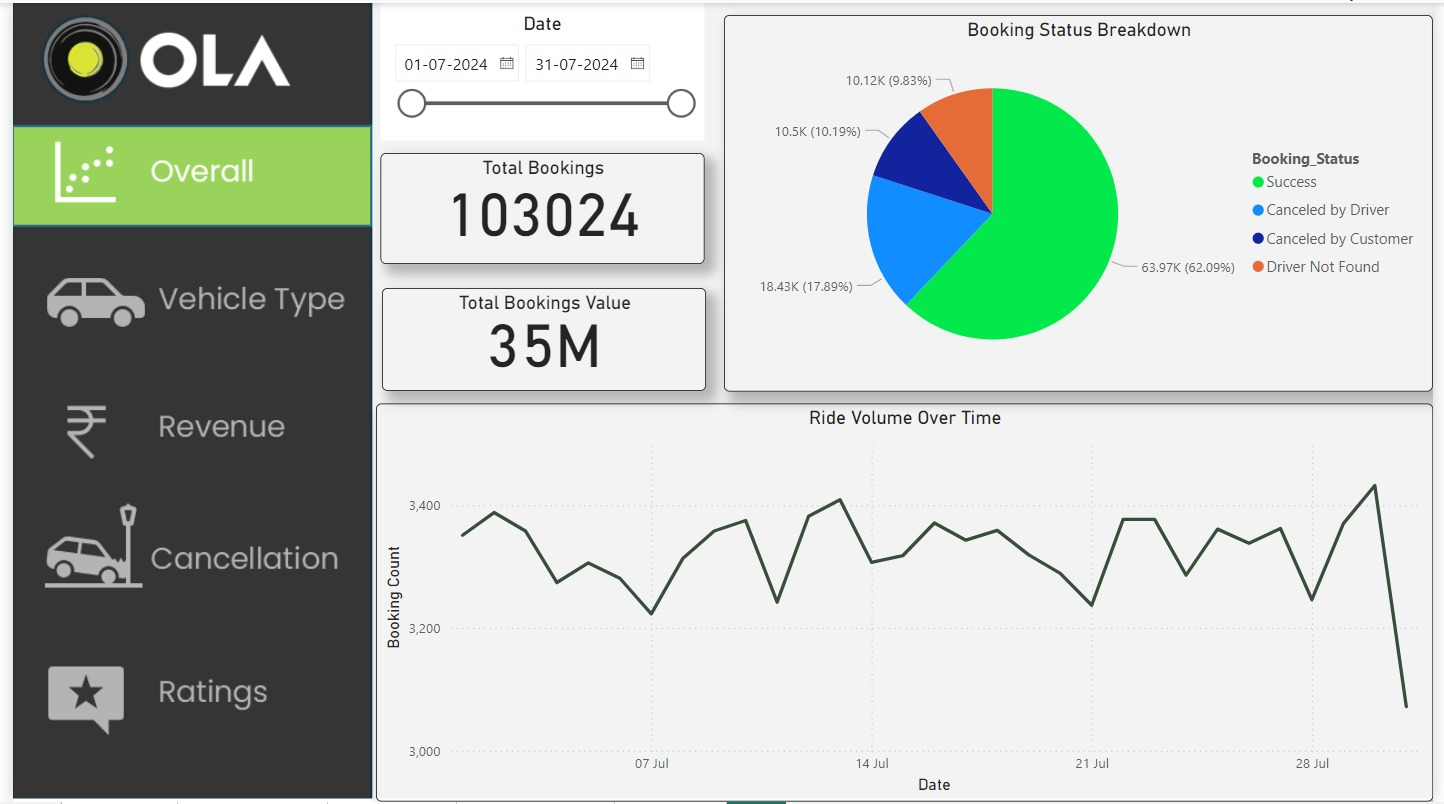

Layout of this report page (visuals, bound fields, positions):
{"tool":"powerbi","page":{"name":"overall","canvas":[1280,720],"ordinal":0},"visuals":[{"type":"actionButton","box":[0,574.5,323.1,93.3],"z":0},{"type":"actionButton","box":[0,235.2,323.1,93.3],"z":1000},{"type":"actionButton","box":[0,243.3,323.1,93.3],"z":2000},{"type":"actionButton","box":[9.5,244.7,313.6,93.3],"z":3000},{"type":"actionButton","box":[0,243.3,323.1,93.3],"z":4000},{"type":"actionButton","box":[9.1,245.3,322.5,93.9],"z":5000},{"type":"actionButton","box":[4.1,328.5,323.1,93.3],"z":6000},{"type":"actionButton","box":[0,337.9,323.1,93.3],"z":7000},{"type":"lineChart","title":"Ride Volume Over Time","fields":{"Y":["CountNonNull(Bookings.Booking_ID)"],"Category":["Bookings.Date"]},"box":[327.1,360.4,952.4,358.9],"z":8000},{"type":"pieChart","title":"Booking Status Breakdown","fields":{"Category":["Bookings.Booking_Status"],"Y":["CountNonNull(Bookings.Booking_Status)"]},"box":[640.5,10.6,639,339.2],"z":9000},{"type":"slicer","title":"Date","fields":{"Values":["Bookings.Date"]},"box":[331.6,0,292.2,124.2],"z":10000},{"type":"card","title":"Total Bookings","fields":{"Values":["Count(Bookings.Booking_ID)"]},"box":[331.6,134.8,292.2,99.9],"z":11000},{"type":"card","title":"Total Bookings Value","fields":{"Values":["Sum(Bookings.Booking_Value)"]},"box":[333.1,257.4,292.2,92.4],"z":12000}]}

Visuals, with their boxes in screenshot pixels (x1, y1, x2, y2), scaled from the page's 1280x720 canvas onto the 1444x804 screenshot:
actionButton: 0,642,364,746
actionButton: 0,263,364,367
actionButton: 0,272,364,376
actionButton: 11,273,364,377
actionButton: 0,272,364,376
actionButton: 10,274,374,379
actionButton: 5,367,369,471
actionButton: 0,377,364,482
"Ride Volume Over Time" lineChart: 369,402,1443,803
"Booking Status Breakdown" pieChart: 723,12,1443,391
"Date" slicer: 374,0,704,139
"Total Bookings" card: 374,151,704,262
"Total Bookings Value" card: 376,287,705,391
